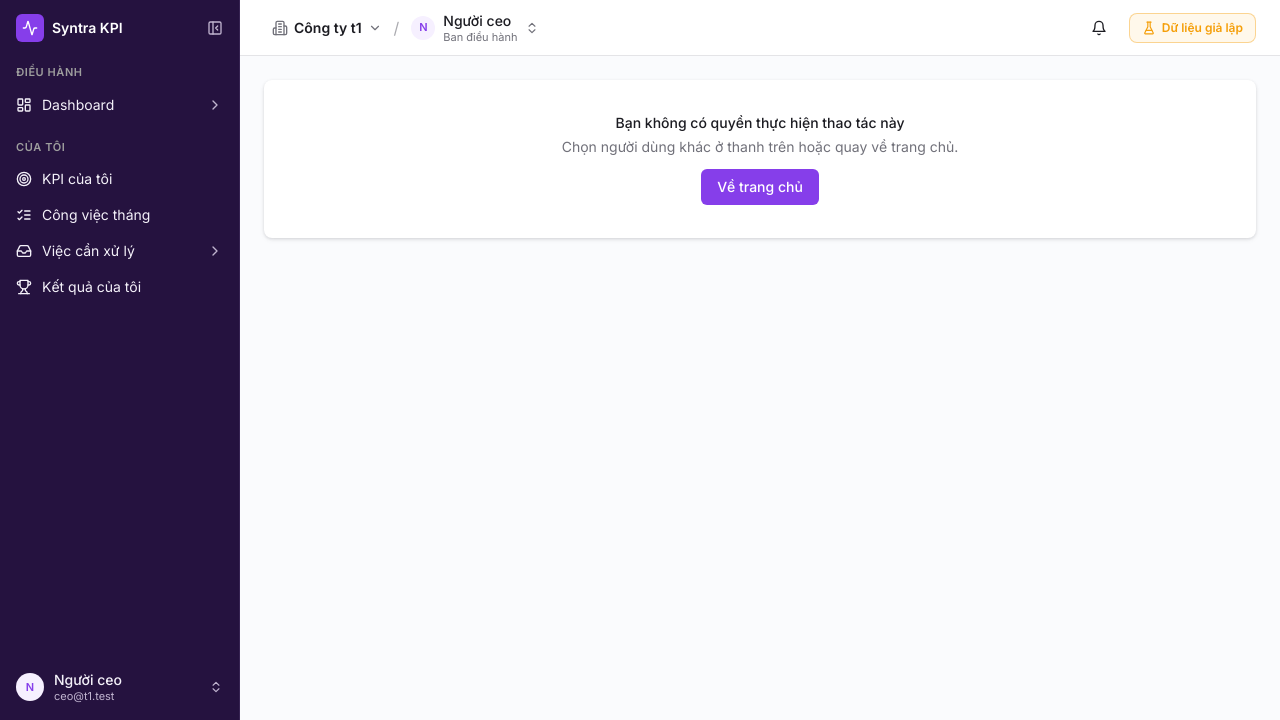
the AppShell route guard › blocks a typed-in route the person may not open, with the catalogue copy and a way home
This screenshot has width=1280, height=720.
Expected: the text "Bạn không có quyền thực hiện thao tác này" is shown, 616,114 -> 904,131
Step 1. Click the button "Về trang chủ" → (760, 187), box 701,169 -> 819,205
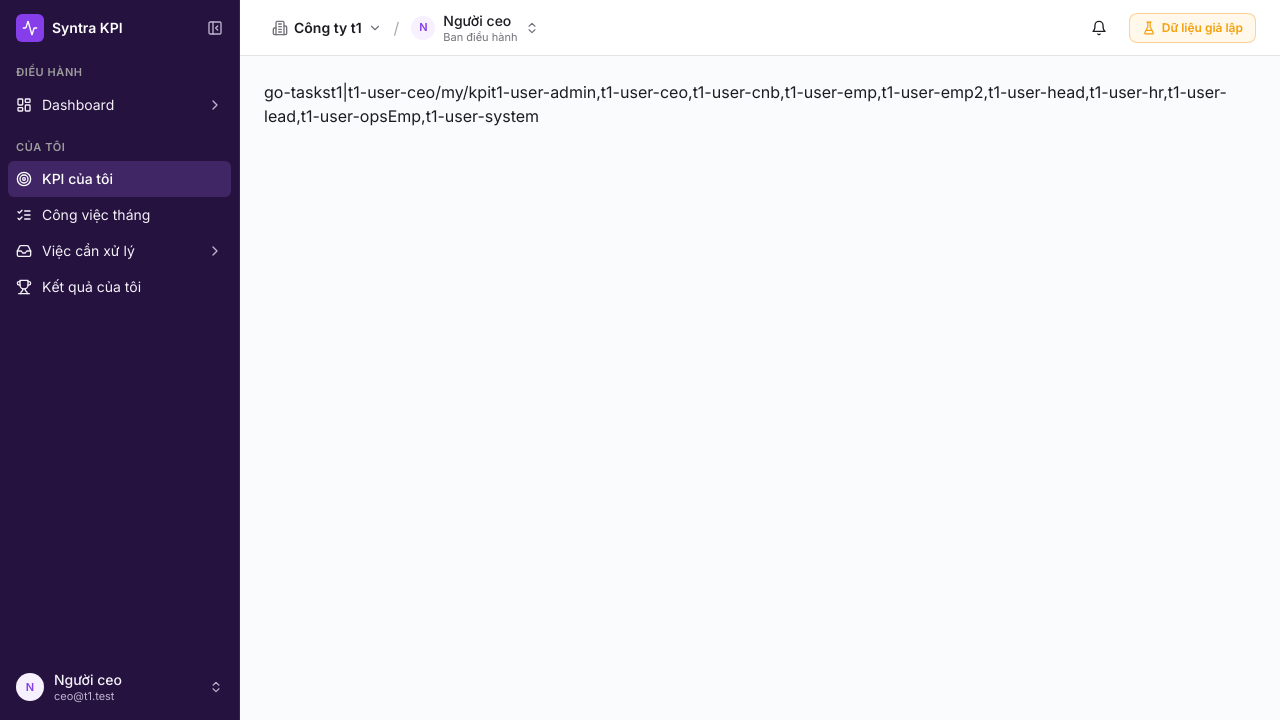
Expected: the text with test id "who" reads "t1|t1-user-ceo", 331,82 -> 435,102
Expected: the text with test id "path" reads "/my/kpi", 435,82 -> 491,102
